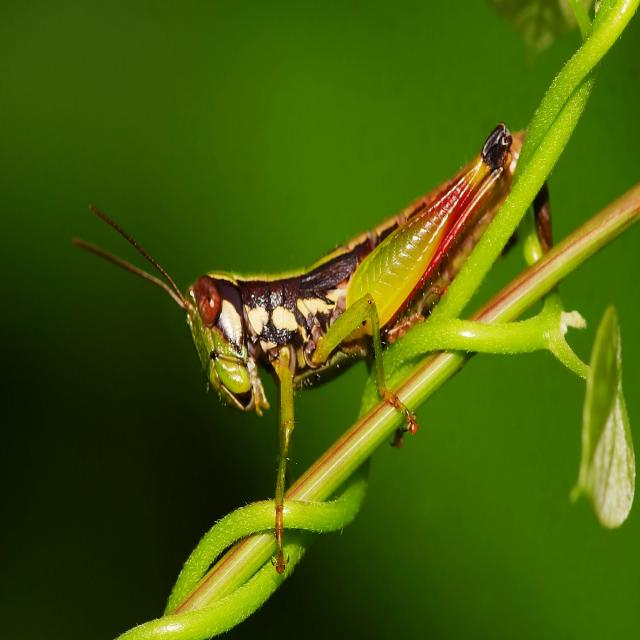ZhaMeng: (84, 120, 541, 460)
